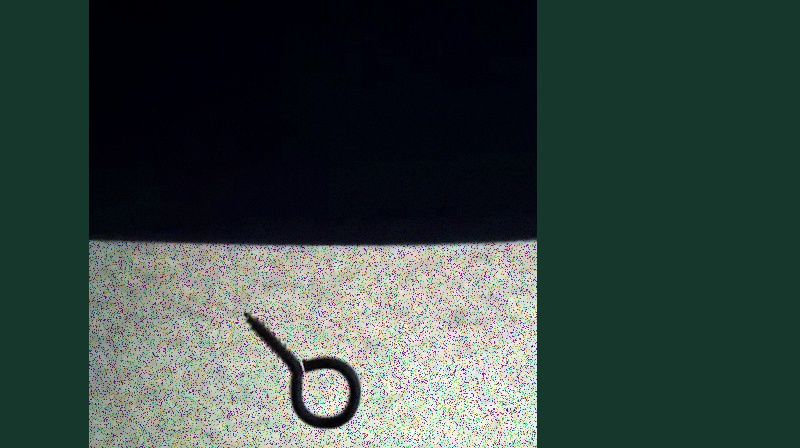O001: (232, 303, 364, 435)
